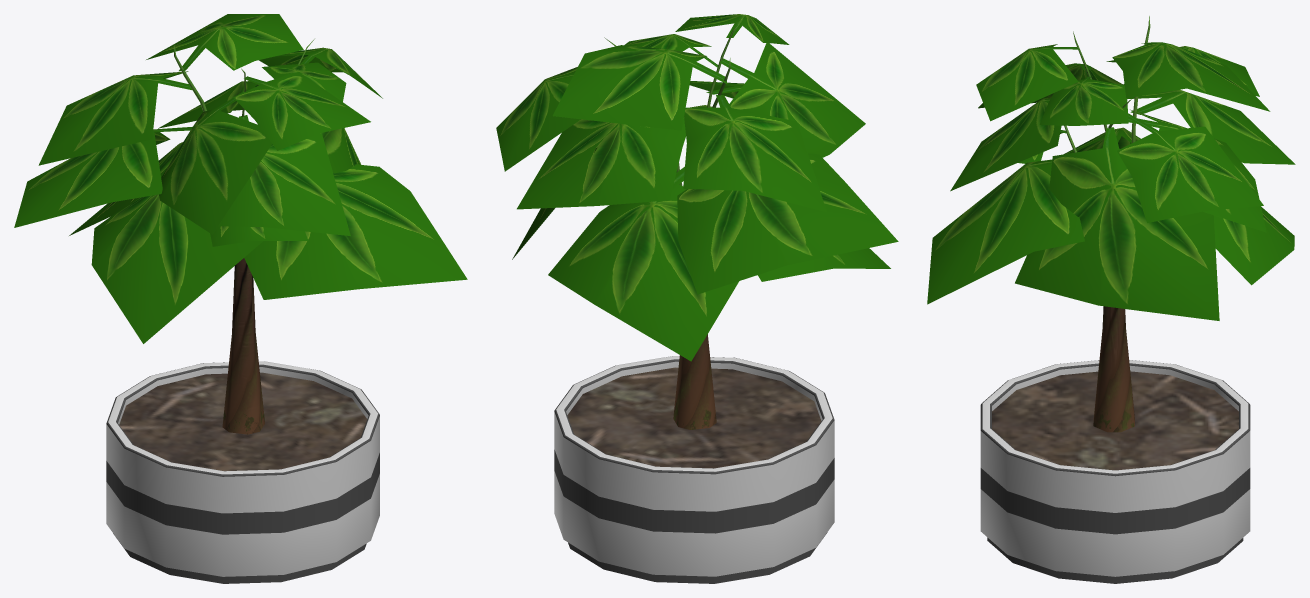
File: Cylinder_plant.fbx
3 renders of one model, left to right at view 1: azimuth 30°, elevation 25°; view 2: azimuth 150°, elevation 25°; view 3: azimuth 270°, elevation 25°, orthographic. The views are drawn at different scales.
Visible parts, largest first — view 1: polySurface46; view 2: polySurface46; view 3: polySurface46.
Part boxes in pixels (bbox=[...]): polySurface46: bbox=[14, 14, 467, 583]; polySurface46: bbox=[496, 14, 898, 583]; polySurface46: bbox=[927, 16, 1295, 583].
Bounding box in the file's own units: 168 × 211 × 144.
Materials: 3 (1 with a texture image).
